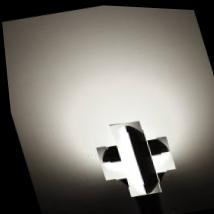TubeLight: (97, 123, 165, 188)
